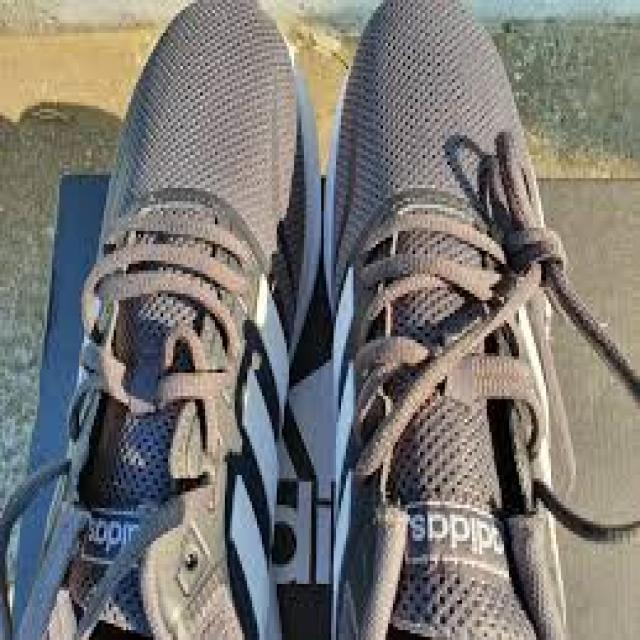shoe: (40, 3, 321, 640), (307, 0, 559, 640)
